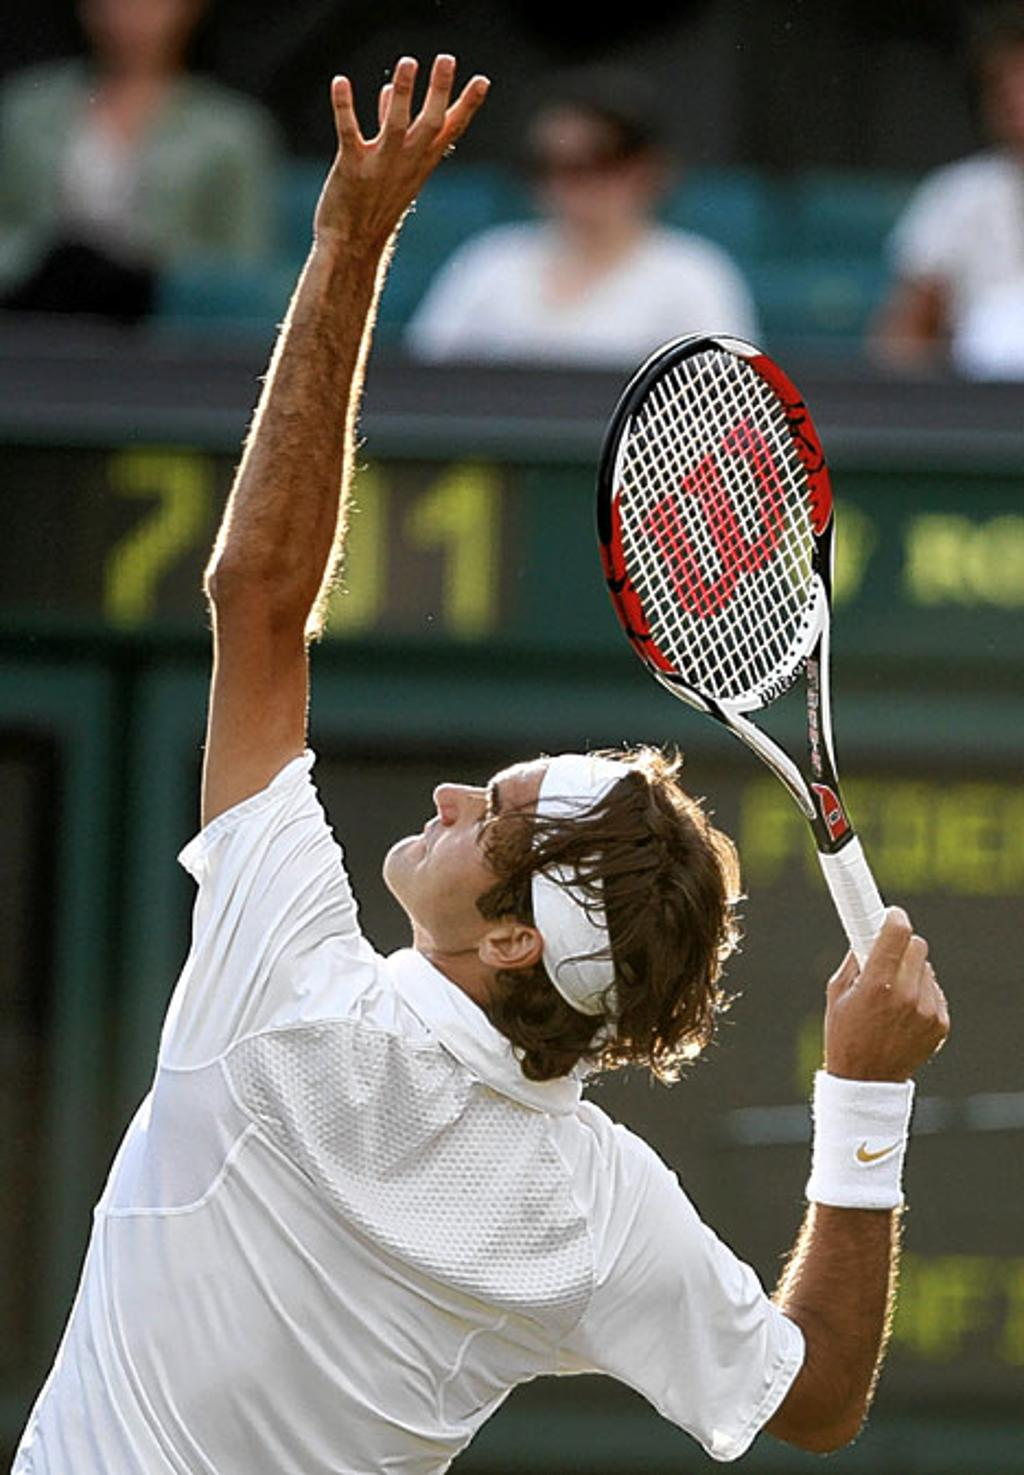face: (380, 756, 558, 923)
